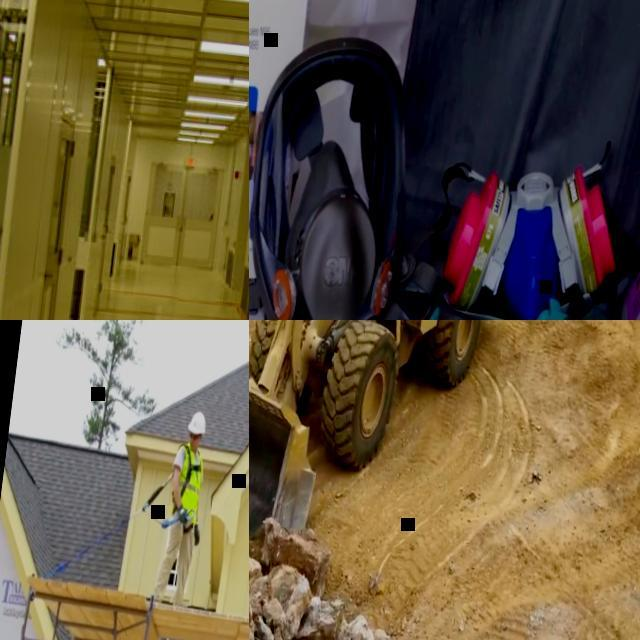Weapon: (105, 378, 220, 611)
